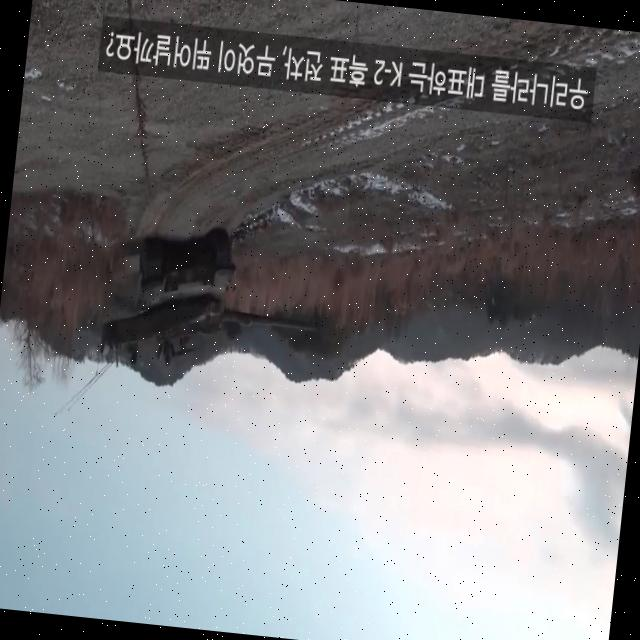korea tank: (94, 220, 328, 390)
